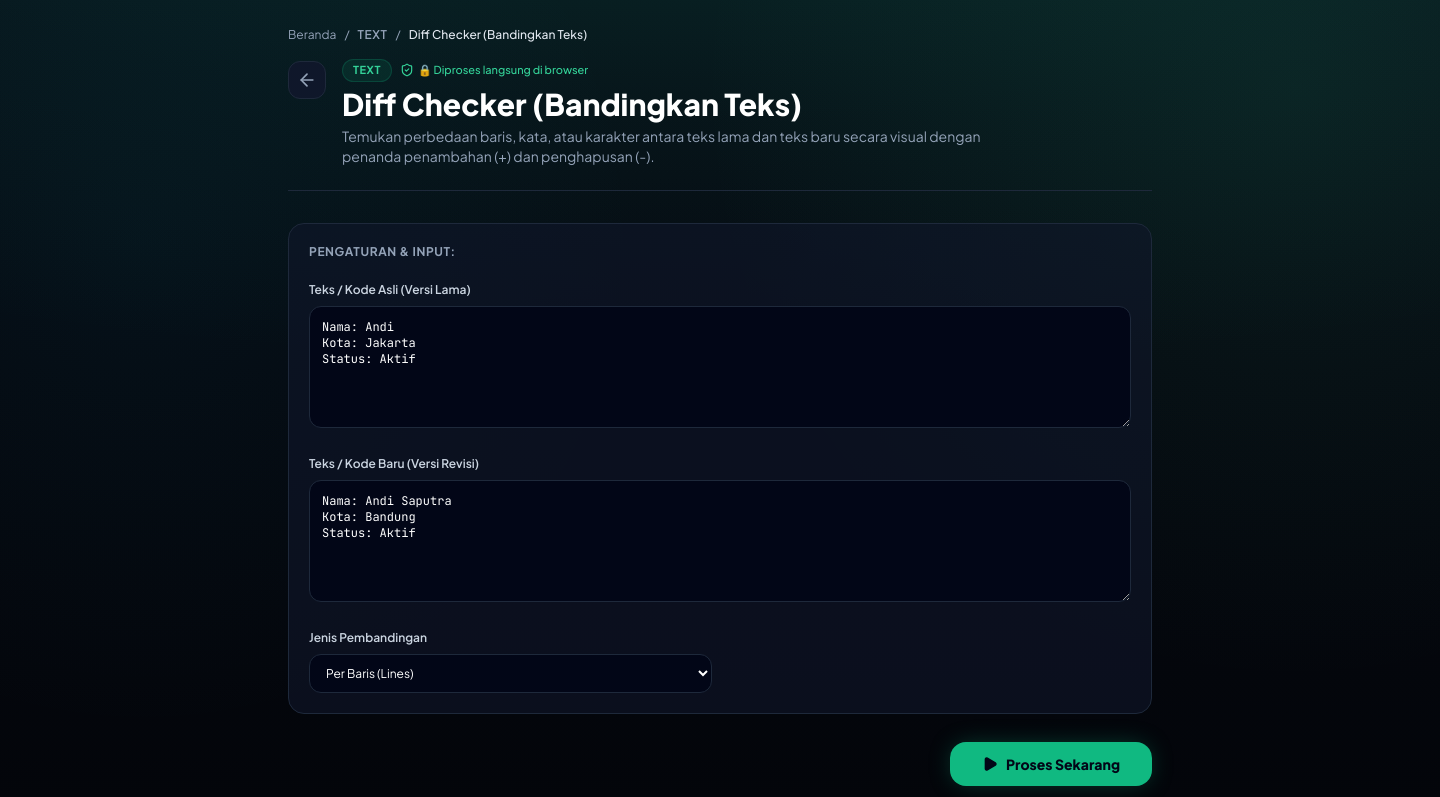
End-to-End UI & Functional User Journeys (Task 6) › 3. Text & Form Tools UI Flow › Diff Checker: compares multiline inputs and renders diff view
Click the button "Proses Sekarang" at coordinates (1051, 764), box [950, 742, 1152, 786]
(page scrolled)
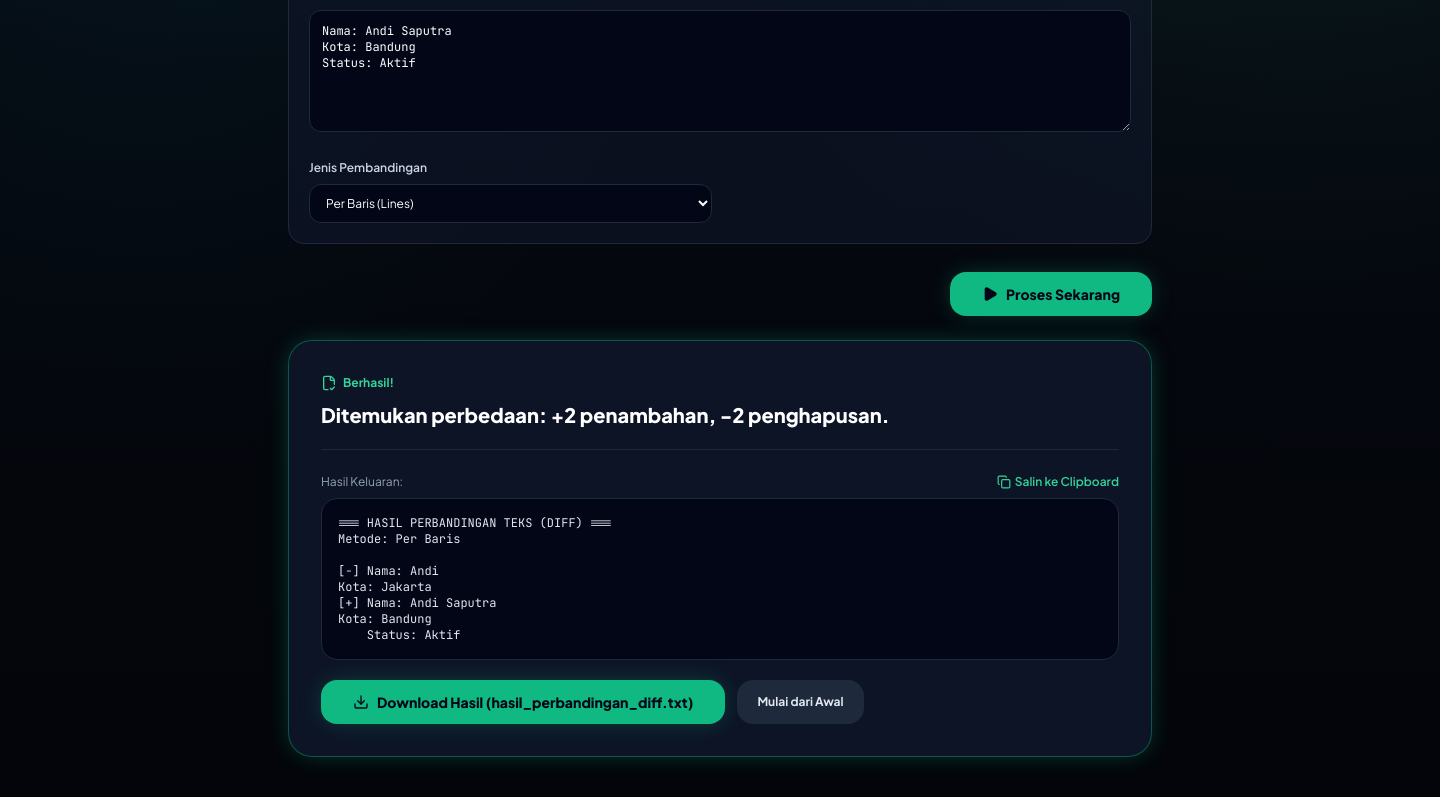
Check: the text "Berhasil!" is shown, box [321, 374, 394, 390]
Check: the text "HASIL PERBANDINGAN TEKS" is shown, box [338, 514, 612, 642]
